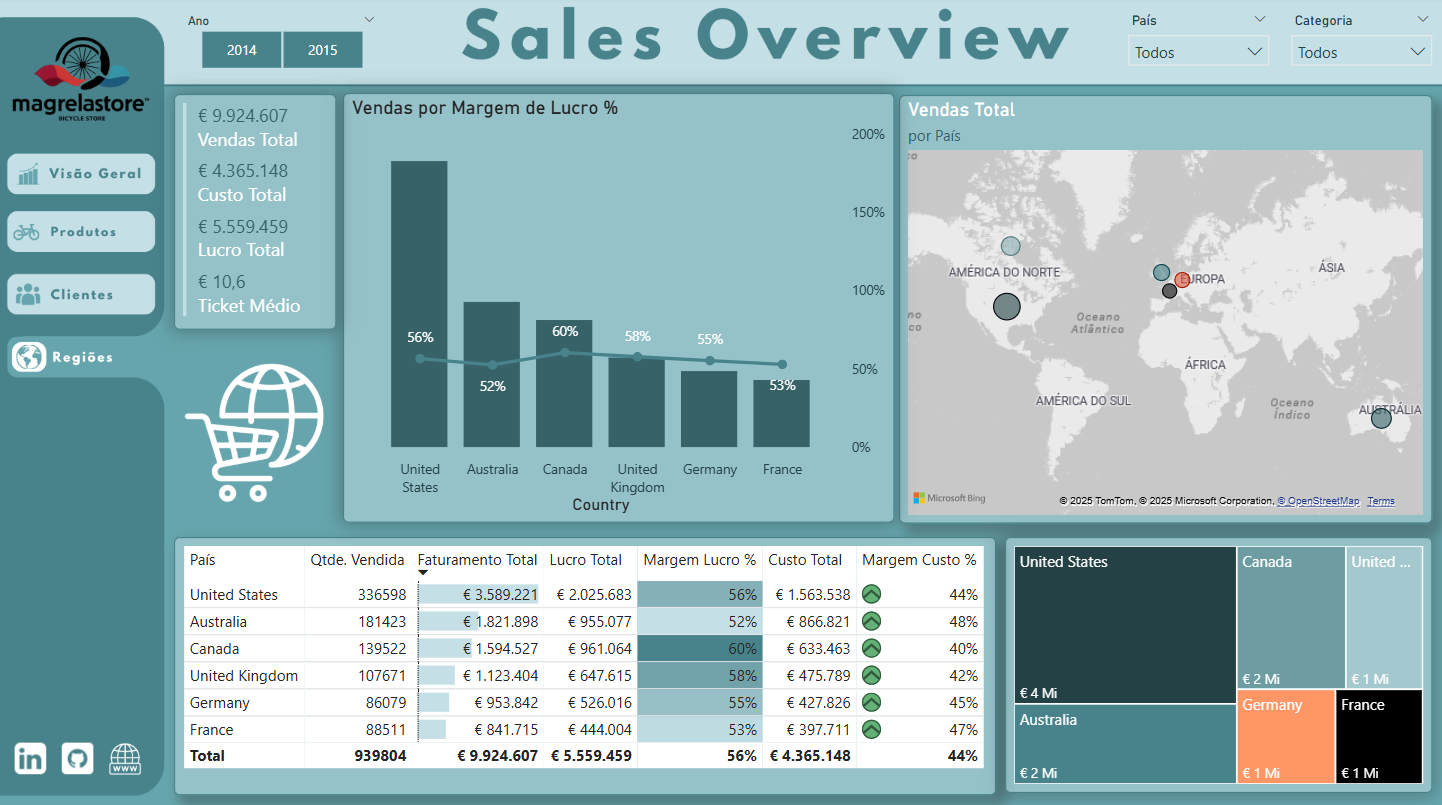

This screenshot's page, from the dashboard's own definition file:
{"tool":"powerbi","page":{"name":"Regiões","canvas":[1280,720],"ordinal":3},"visuals":[{"type":"actionButton","box":[0,189.8,141,39.9],"z":0},{"type":"actionButton","box":[0,134.8,141,39.9],"z":1000},{"type":"actionButton","box":[0,243.8,141,39.9],"z":2000},{"type":"image","box":[8,656.2,38.1,38.1],"z":3000},{"type":"image","box":[48.8,656.2,40.8,38.1],"z":4000},{"type":"image","box":[86.9,644.6,47.9,62.1],"z":5000},{"type":"actionButton","box":[0,654.4,46.1,39.9],"z":6000},{"type":"actionButton","box":[48.8,655.3,40.8,39.9],"z":7000},{"type":"actionButton","box":[89.6,654.4,47.9,40.8],"z":8000},{"type":"slicer","fields":{"Values":["Dim_Dates.Ano"]},"box":[153.4,9.8,191.5,60.3],"z":9000},{"type":"slicer","fields":{"Values":["Dim_Geographic.Country"]},"box":[990.3,8.5,144.8,61.1],"z":10000},{"type":"slicer","fields":{"Values":["Dim_Product.Product_Category"]},"box":[1135.2,8.5,144.8,61.1],"z":11000},{"type":"map","title":"Vendas Total","fields":{"Category":["Dim_Geographic.Country"],"Size":["#Medidas.01 Vendas Totais"]},"box":[797.3,86.5,473,379.7],"z":12000},{"type":"tableEx","fields":{"Values":["Dim_Geographic.Country","#Medidas.06 Qtde. Vendida","#Medidas.01 Vendas Totais","#Medidas.03 Lucro","#Medidas.04 Margem Lucro %","#Medidas.02 Custo Total","#Medidas.05 Margem Custo %"]},"box":[154.3,478.6,728.6,228.6],"z":13000},{"type":"lineClusteredColumnComboChart","title":"Vendas por Margem de Lucro %","fields":{"Category":["Dim_Geographic.Country"],"Y":["#Medidas.01 Vendas Totais"],"Y2":["#Medidas.04 Margem Lucro %"]},"box":[304.1,85.1,489.2,381.1],"z":14000},{"type":"multiRowCard","fields":{"Values":["#Medidas.01 Vendas Totais","#Medidas.02 Custo Total","#Medidas.03 Lucro","#Medidas.10 Ticket Médio"]},"box":[154.3,85.7,144.3,208.6],"z":15000},{"type":"treemap","fields":{"Values":["#Medidas.01 Vendas Totais"],"Group":["Dim_Geographic.Country"]},"box":[891.4,478.6,378.6,227.1],"z":16000},{"type":"image","box":[152.9,294.3,145.7,184.3],"z":17000}]}

Visuals, with their boxes in screenshot pixels (x1, y1, x2, y2), scaled from the page's 1280x720 canvas onto the 1442x805 screenshot:
actionButton: BBox(0, 212, 159, 257)
actionButton: BBox(0, 151, 159, 195)
actionButton: BBox(0, 273, 159, 317)
image: BBox(9, 734, 52, 776)
image: BBox(55, 734, 101, 776)
image: BBox(98, 721, 152, 790)
actionButton: BBox(0, 732, 52, 776)
actionButton: BBox(55, 733, 101, 777)
actionButton: BBox(101, 732, 155, 777)
slicer - Dim_Dates.Ano: BBox(173, 11, 389, 78)
slicer - Dim_Geographic.Country: BBox(1116, 10, 1279, 78)
slicer - Dim_Product.Product_Category: BBox(1279, 10, 1441, 78)
"Vendas Total" map: BBox(898, 97, 1431, 521)
tableEx - Dim_Geographic.Country x #Medidas.06 Qtde. Vendida: BBox(174, 535, 995, 791)
"Vendas por Margem de Lucro %" lineClusteredColumnComboChart: BBox(343, 95, 894, 521)
multiRowCard - #Medidas.01 Vendas Totais x #Medidas.02 Custo Total: BBox(174, 96, 336, 329)
treemap - #Medidas.01 Vendas Totais x Dim_Geographic.Country: BBox(1004, 535, 1431, 789)
image: BBox(172, 329, 336, 535)
